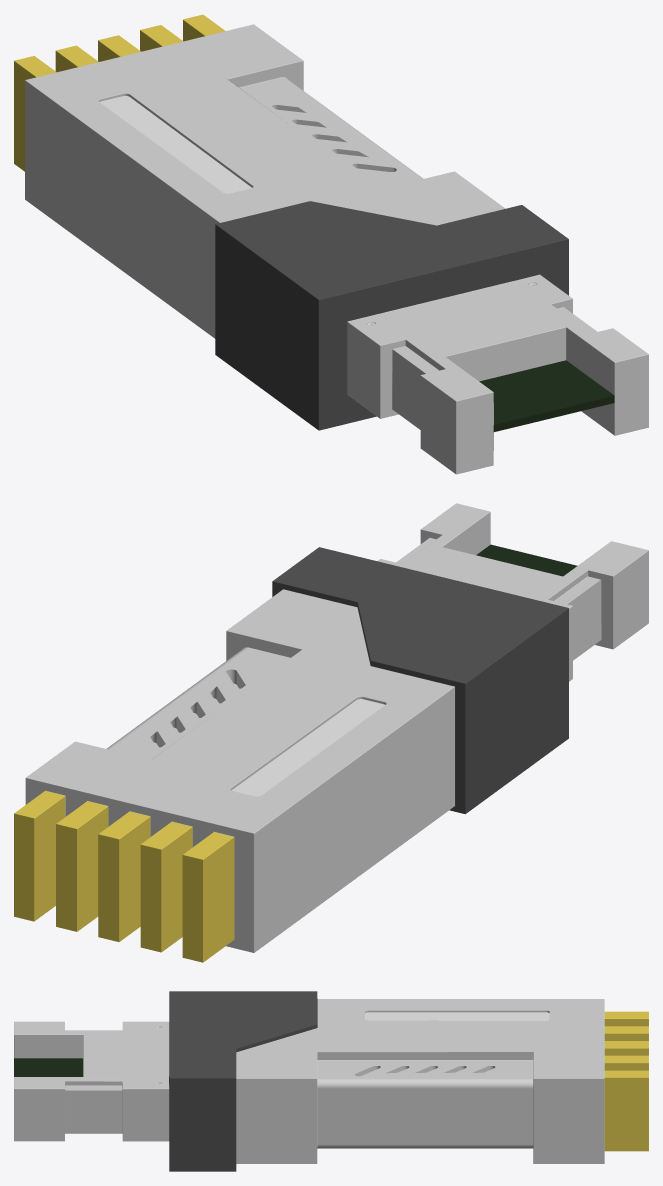
The model's file is Device.fbx.
The picture shows the model from 3 angles, top to bottom: view 1: azimuth 30°, elevation 25°; view 2: azimuth 150°, elevation 25°; view 3: azimuth 270°, elevation 25°; orthographic projection. The views are drawn at different scales.
Parts seen in each view (by area): view 1: Cube; view 2: Cube; view 3: Cube.
Boxes of the visible parts, box(x1,y1,x2,y2) form: Cube: box(14, 14, 648, 474); Cube: box(14, 503, 648, 962); Cube: box(14, 991, 648, 1171).
Size of the model in its own units: 720 by 360 by 2215.
